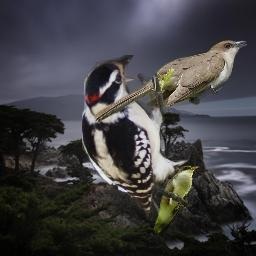Cuckoo: (92, 39, 247, 122), (153, 165, 200, 234)
Woodpecker: (82, 55, 190, 221)
